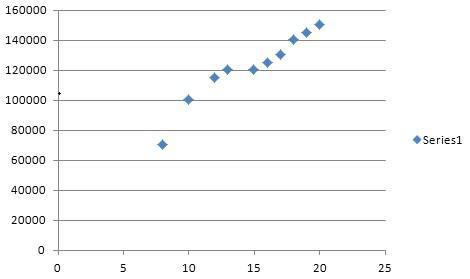axis: (58, 247, 389, 258), (51, 4, 65, 252)
legend: (409, 132, 466, 150)
point: (285, 31, 302, 47), (181, 91, 196, 107), (154, 135, 169, 151), (312, 17, 327, 32), (259, 55, 275, 69), (207, 70, 221, 84), (275, 46, 287, 62), (301, 25, 314, 39), (248, 63, 261, 77), (221, 62, 234, 75)
